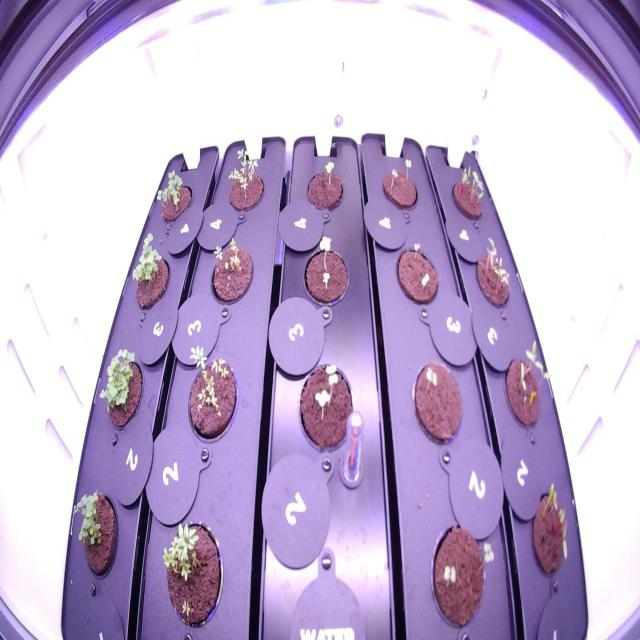germination: (155, 511, 232, 634), (424, 516, 500, 632), (290, 354, 362, 459), (180, 334, 242, 451), (521, 471, 577, 586), (65, 480, 126, 584), (407, 350, 468, 454), (501, 332, 557, 440), (94, 338, 147, 438), (300, 226, 353, 318), (124, 222, 174, 319), (205, 230, 258, 314), (390, 230, 442, 315), (469, 229, 516, 313), (297, 152, 349, 222), (222, 145, 269, 222), (446, 154, 491, 233), (152, 160, 198, 230), (377, 152, 422, 218)
